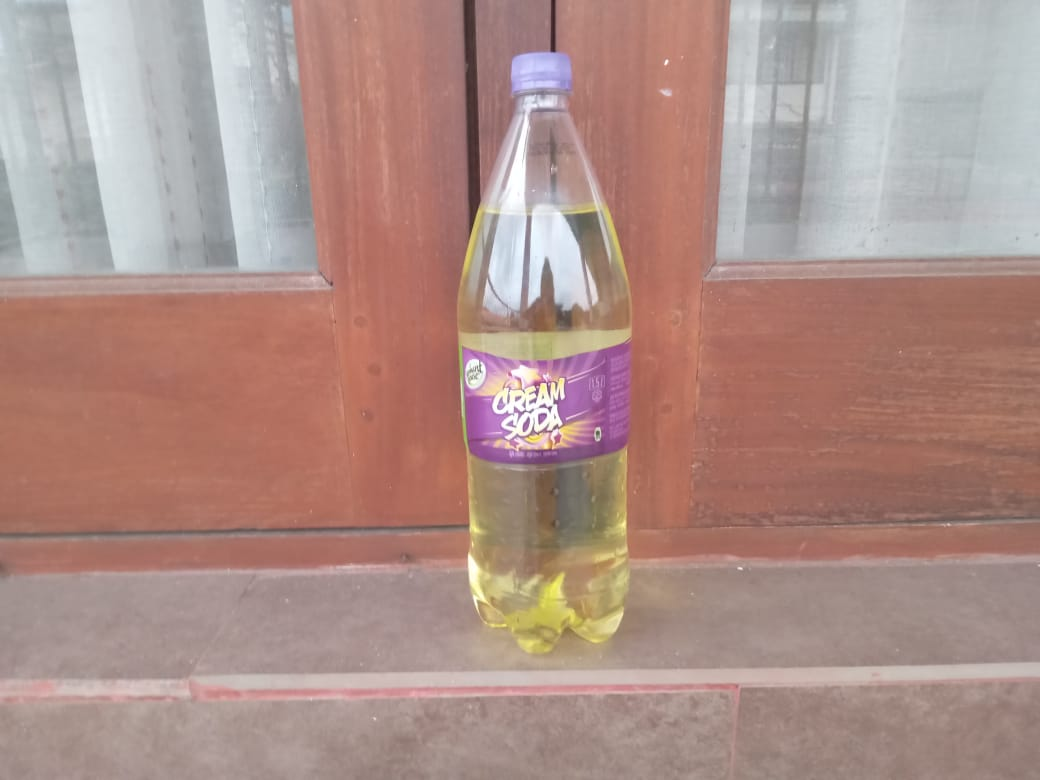L: (443, 47, 637, 662)
